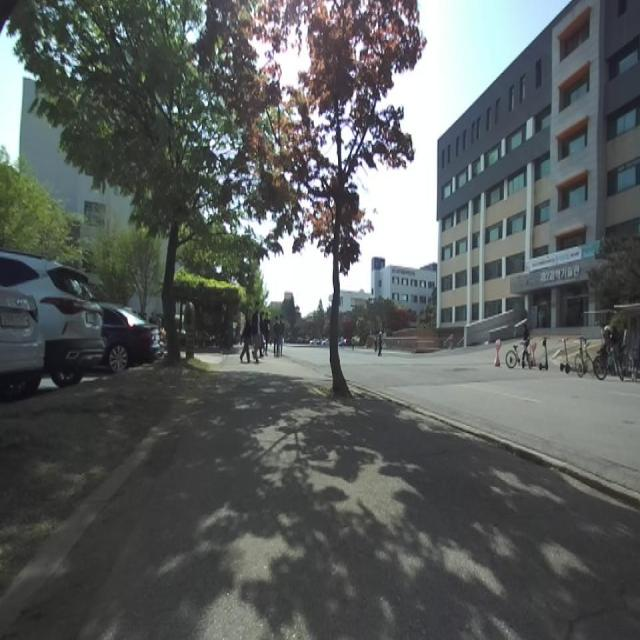sidewalk: (8, 372, 640, 639)
